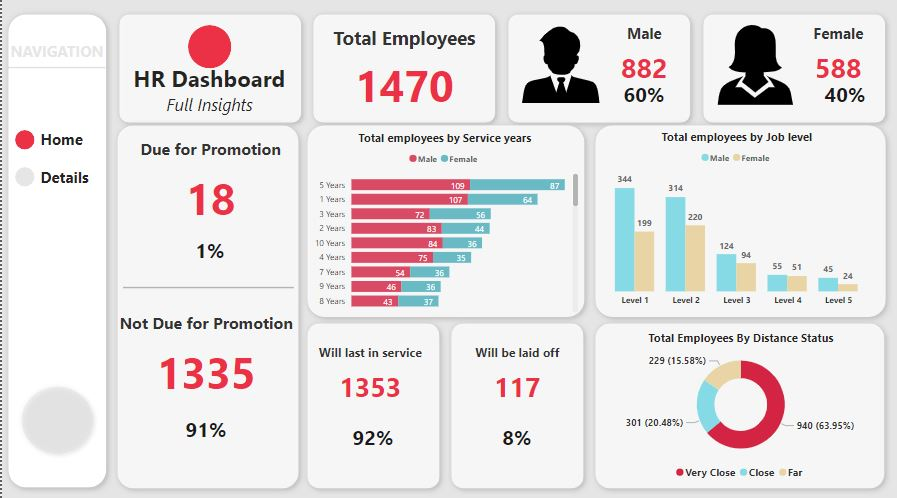

The dashboard page shown, as its layout file describes it:
{"tool":"powerbi","page":{"name":"HOME","canvas":[1280,720],"ordinal":0},"visuals":[{"type":"shape","box":[0,12.9,158.1,694.1],"z":0},{"type":"shape","box":[158.3,12.4,278,173.4],"z":1000},{"type":"shape","box":[436.3,12.4,278,173.4],"z":2000},{"type":"shape","box":[992.3,12.4,278,173.4],"z":3000},{"type":"shape","box":[714.3,12.4,278,173.4],"z":4000},{"type":"shape","box":[155.2,171,277.4,537.5],"z":5000},{"type":"textbox","box":[173.9,86.2,244.3,96.3],"z":6000},{"type":"shape","box":[265.6,37.2,61.9,61.9],"z":7000},{"type":"card","title":"Total Employees","fields":{"Values":["CountNonNull(HR Analytics Data.Gender)"]},"box":[455.6,37.2,238.1,132.1],"z":8000},{"type":"card","title":"Male","fields":{"Values":["CountNonNull(HR Analytics Data.Gender)"]},"box":[840.7,34.5,152.3,103.5],"z":9000},{"type":"card","title":"Male","fields":{"Values":["MEASURES (2).% of Male"]},"box":[863.7,106.3,106.3,63.2],"z":10000},{"type":"card","title":"Female","fields":{"Values":["CountNonNull(HR Analytics Data.Gender)"]},"box":[1118.1,34.5,152.3,103.5],"z":11000},{"type":"card","title":"Male","fields":{"Values":["MEASURES (2).% of Female"]},"box":[1151.1,106.3,106.3,63.2],"z":12000},{"type":"card","title":"Due for Promotion","fields":{"Values":["MEASURES (2).Due for promotion"]},"box":[168.1,198.3,258.7,138],"z":13000},{"type":"card","title":"Not Due for Promotion","fields":{"Values":["MEASURES (2).Not Due for prompotion"]},"box":[143.7,446.9,294.6,138],"z":14000},{"type":"card","title":"Male","fields":{"Values":["MEASURES (2).% of Due Promotion"]},"box":[244.3,329.1,106.3,63.2],"z":15000},{"type":"card","title":"Male","fields":{"Values":["MEASURES (2).% Not Due for promotion"]},"box":[238.6,584.9,106.3,63.2],"z":16000},{"type":"shape","box":[172.5,405.3,244.3,12.9],"z":17000},{"type":"shape","box":[426.8,171,413.9,291.7],"z":18000},{"type":"barChart","title":"Total employees by Service years","fields":{"Category":["HR Analytics Data.Service Yeasr"],"Y":["CountNonNull(HR Analytics Data.Gender)"],"Series":["HR Analytics Data.Gender"]},"box":[436.9,186.8,390.9,265.9],"z":19000},{"type":"shape","box":[839.3,171,432.6,291.7],"z":20000},{"type":"clusteredColumnChart","title":"Total employees by Job level","fields":{"Category":["HR Analytics Data.Level JOB"],"Y":["CountNonNull(HR Analytics Data.Gender)"],"Series":["HR Analytics Data.Gender"]},"box":[840.7,185.4,416.8,261.6],"z":21000},{"type":"shape","box":[839.3,454.1,431.1,254.4],"z":22000},{"type":"shape","box":[426.8,454.1,206.9,254.4],"z":23000},{"type":"shape","box":[632.3,454.1,206.9,254.4],"z":24000},{"type":"card","title":"Will last in service","fields":{"Values":["MEASURES (2).No. of lasting in srevice"]},"box":[436.9,492.9,178.2,103.5],"z":25000},{"type":"card","title":"Will be laid off","fields":{"Values":["MEASURES (2).laid off"]},"box":[646.7,492.9,178.2,103.5],"z":26000},{"type":"card","title":"Male","fields":{"Values":["MEASURES (2).% of last in service"]},"box":[477.1,596.4,106.3,63.2],"z":27000},{"type":"card","title":"Male","fields":{"Values":["MEASURES (2).% of laid off"]},"box":[682.6,596.4,106.3,63.2],"z":28000},{"type":"donutChart","title":"Total Employees By Distance Status","fields":{"Y":["CountNonNull(HR Analytics Data.Gender)"],"Category":["HR Analytics Data.Distances Statues"]},"box":[852.2,472.8,405.3,222.8],"z":29000},{"type":"shape","box":[18.7,544.7,120.7,115],"z":30000},{"type":"actionButton","box":[743,37.4,110.7,113.5],"z":31000},{"type":"actionButton","box":[1020.4,37.4,110.7,113.5],"z":32000},{"type":"shape","box":[8.6,92,139.4,12.9],"z":33000},{"type":"textbox","box":[1.4,54.3,154.3,40],"z":34000},{"type":"shape","box":[18.8,186.9,27.5,27.5],"z":35000},{"type":"textbox","box":[49.6,179.4,80,42.5],"z":36000},{"type":"shape","box":[18.8,240,27.5,27.5],"z":37000},{"type":"textbox","box":[49.3,234.7,94,47.3],"z":38000}]}

Visuals, with their boxes in screenshot pixels (x1, y1, x2, y2), scaled from the page's 1280x720 canvas onto the 897x498 screenshot:
shape: l=0, t=9, r=111, b=489
shape: l=111, t=9, r=306, b=129
shape: l=306, t=9, r=501, b=129
shape: l=695, t=9, r=890, b=129
shape: l=501, t=9, r=695, b=129
shape: l=109, t=118, r=303, b=490
textbox: l=122, t=60, r=293, b=126
shape: l=186, t=26, r=230, b=69
"Total Employees" card: l=319, t=26, r=486, b=117
"Male" card: l=589, t=24, r=696, b=95
"Male" card: l=605, t=74, r=680, b=117
"Female" card: l=784, t=24, r=890, b=95
"Male" card: l=807, t=74, r=881, b=117
"Due for Promotion" card: l=118, t=137, r=299, b=233
"Not Due for Promotion" card: l=101, t=309, r=307, b=405
"Male" card: l=171, t=228, r=246, b=271
"Male" card: l=167, t=405, r=242, b=448
shape: l=121, t=280, r=292, b=289
shape: l=299, t=118, r=589, b=320
"Total employees by Service years" barChart: l=306, t=129, r=580, b=313
shape: l=588, t=118, r=891, b=320
"Total employees by Job level" clusteredColumnChart: l=589, t=128, r=881, b=309
shape: l=588, t=314, r=890, b=490
shape: l=299, t=314, r=444, b=490
shape: l=443, t=314, r=588, b=490
"Will last in service" card: l=306, t=341, r=431, b=413
"Will be laid off" card: l=453, t=341, r=578, b=413
"Male" card: l=334, t=413, r=409, b=456
"Male" card: l=478, t=413, r=553, b=456
"Total Employees By Distance Status" donutChart: l=597, t=327, r=881, b=481
shape: l=13, t=377, r=98, b=456
actionButton: l=521, t=26, r=598, b=104
actionButton: l=715, t=26, r=793, b=104
shape: l=6, t=64, r=104, b=73
textbox: l=1, t=38, r=109, b=65
shape: l=13, t=129, r=32, b=148
textbox: l=35, t=124, r=91, b=153
shape: l=13, t=166, r=32, b=185
textbox: l=35, t=162, r=100, b=195
